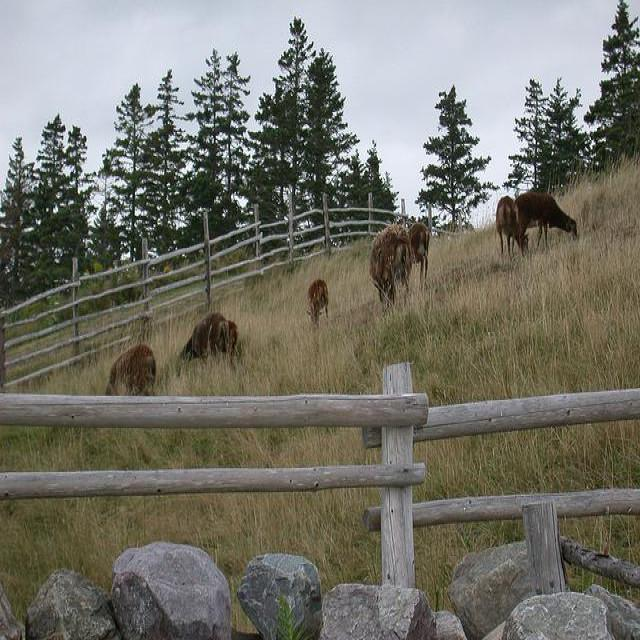Sheep: (514, 192, 578, 252), (370, 222, 413, 302), (103, 346, 158, 398), (179, 310, 229, 366)
